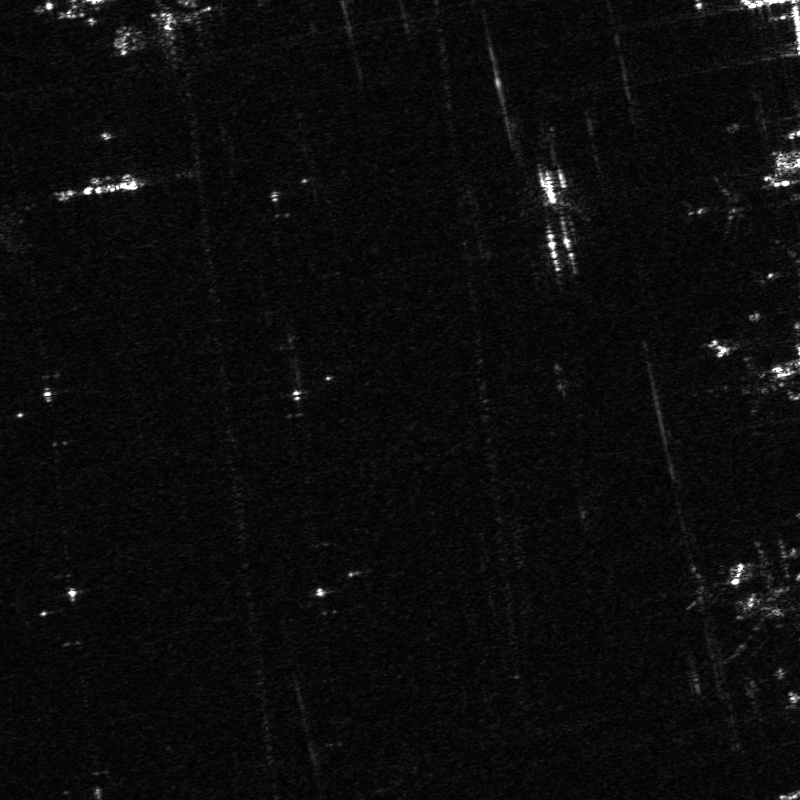Boeing787: (679, 170, 755, 243)
